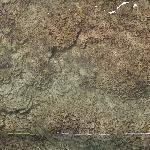dead: (9, 2, 146, 146)
